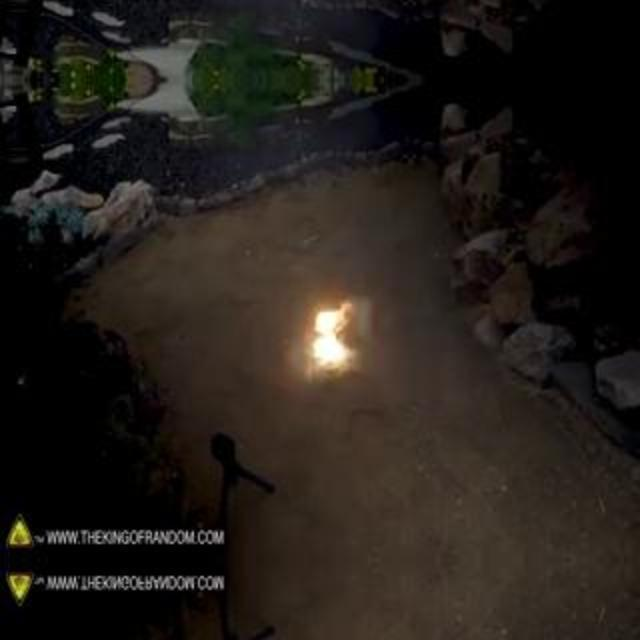smoke: (305, 286, 349, 372)
